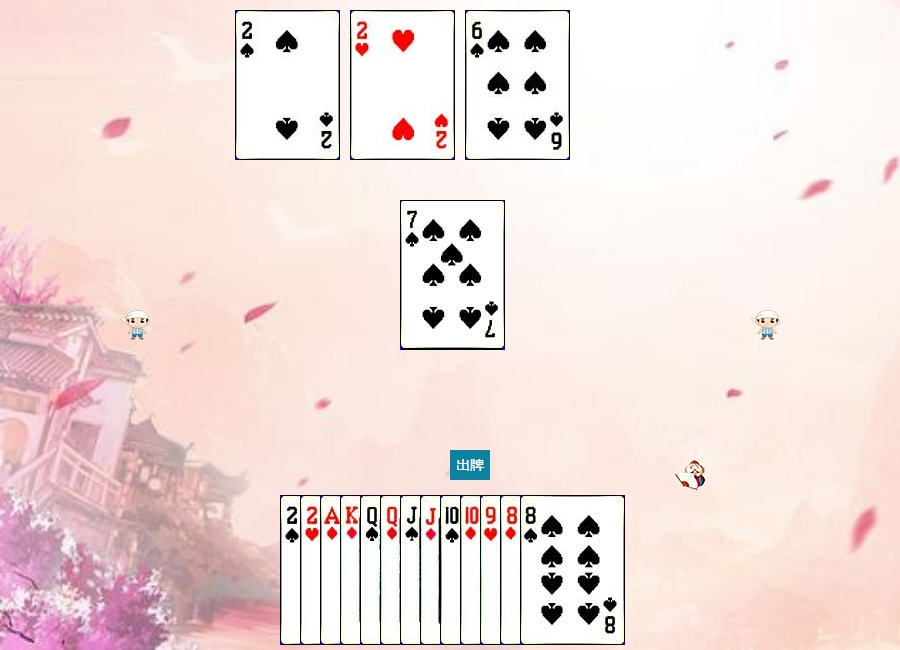10~1: (460, 495, 565, 645)
10~4: (440, 495, 545, 645)
11~1: (420, 495, 525, 645)
11~4: (400, 495, 505, 645)
12~1: (380, 495, 485, 645)
12~4: (360, 495, 465, 645)
13~1: (340, 495, 445, 645)
14~1: (320, 495, 425, 645)
15~3: (350, 10, 455, 160), (300, 495, 405, 645)
15~4: (235, 10, 340, 160), (280, 495, 385, 645)
6~4: (465, 10, 570, 160)
7~4: (400, 200, 505, 350)
8~1: (500, 495, 605, 645)
8~4: (520, 495, 625, 645)
9~3: (480, 495, 585, 645)
